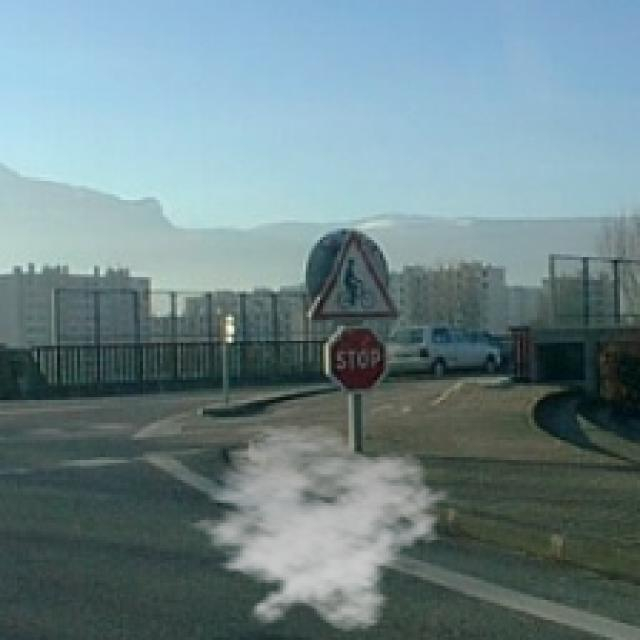smoke: (175, 423, 452, 634)
